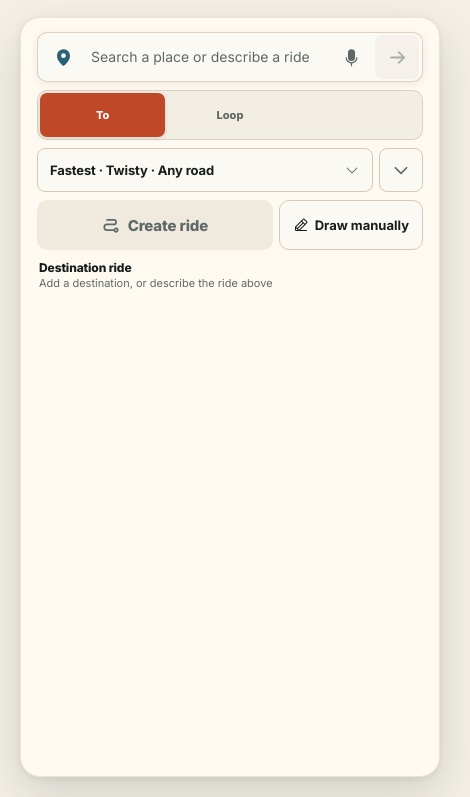
Scenario: planner ride composer › renders BikeProfilePicker inside the route editor pane
The image size is (470, 797).
Click the button with aria-label "Ride options" at point(205, 170), box left=37, top=148, right=373, bottom=192
(page scrolled)
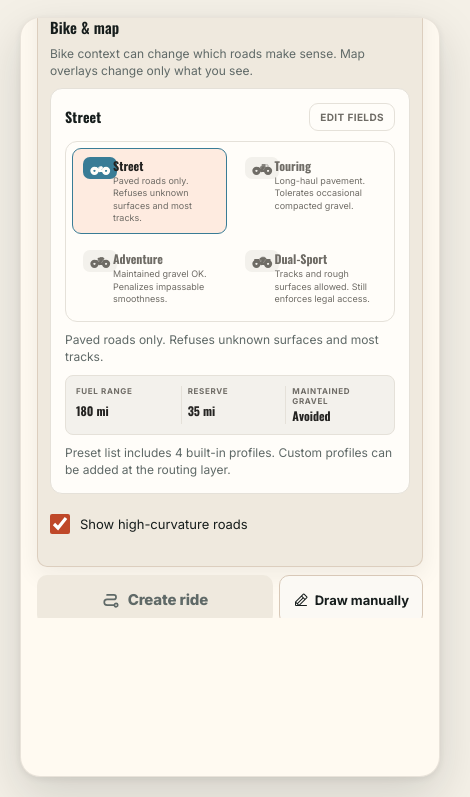
expect the element named "motorcycle bike profile preset" is shown: met, box left=65, top=141, right=395, bottom=322
